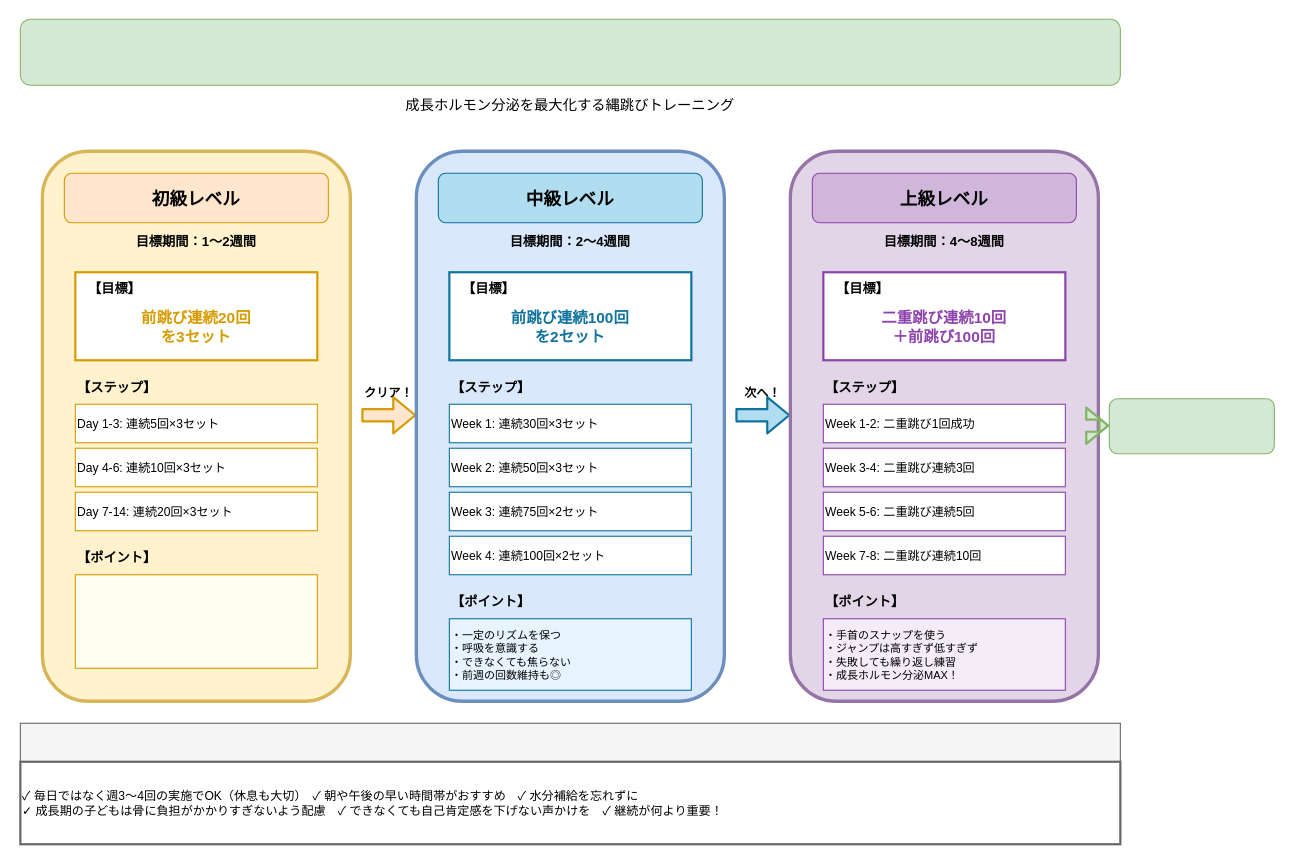
Some shapes in this 1294 by 865 pixel diagram are drawn without their labels. Here are the shapes that lost their labels. From the top down, the centre of each, then its label:
At pixel 569 51: "縄跳びマスタープログラム【段階的ステップアップ】".
At pixel 1191 426: "★ マスター達成！ ★".
At pixel 195 621: "・無理せず継続が最優先 ・リズムよく跳ぶ練習 ・疲れたら休憩を入れる ・楽しく続けることが大切".
At pixel 569 742: "全レベル共通の重要ポイント".
